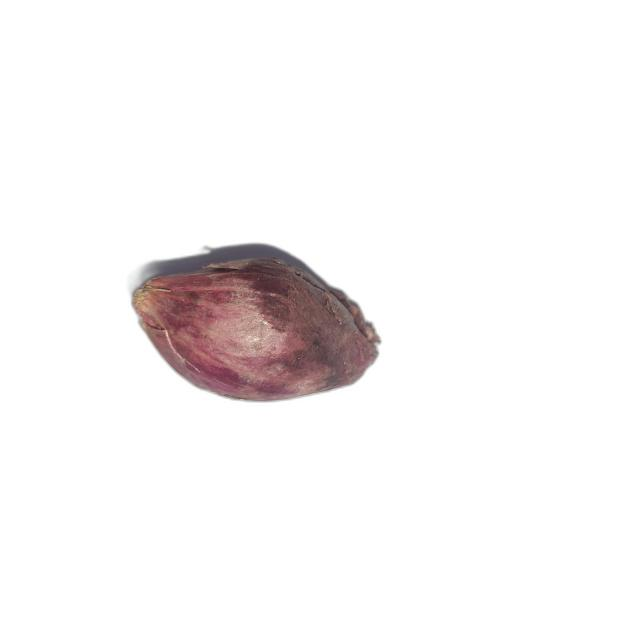onion: (131, 258, 385, 402)
